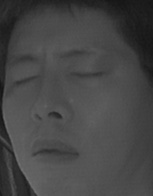blink: (63, 60, 105, 88), (8, 69, 39, 92)
mouth: (28, 134, 83, 168)
